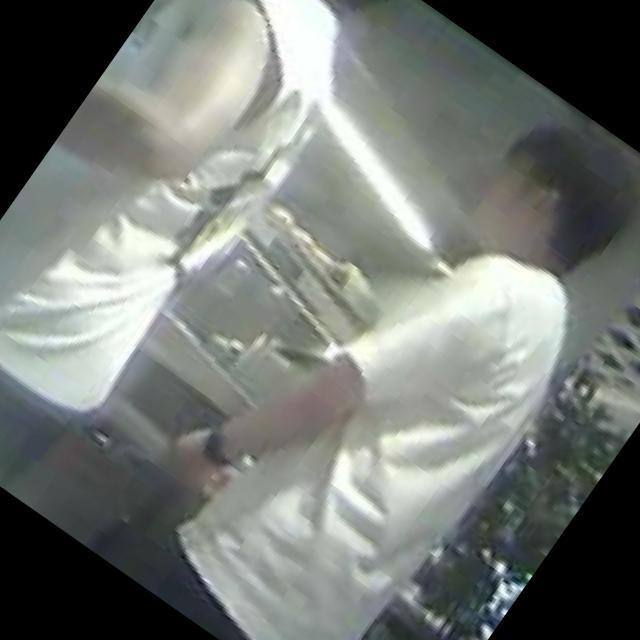person: (102, 41, 640, 640), (0, 0, 412, 518)
